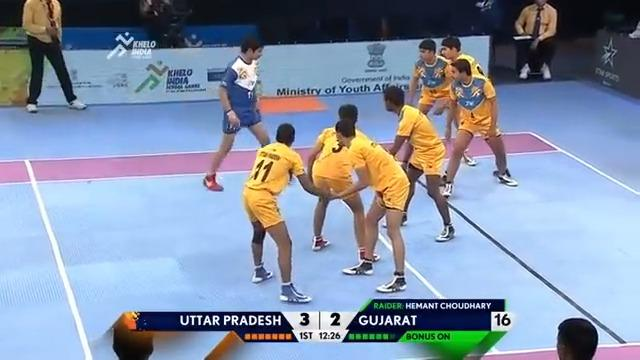Player: (327, 116, 412, 294), (240, 121, 322, 304), (378, 83, 456, 244), (437, 57, 519, 198), (409, 36, 443, 118), (443, 39, 492, 83)
Raider: (200, 34, 273, 192)
referee: (20, 0, 87, 113), (513, 0, 558, 80)
